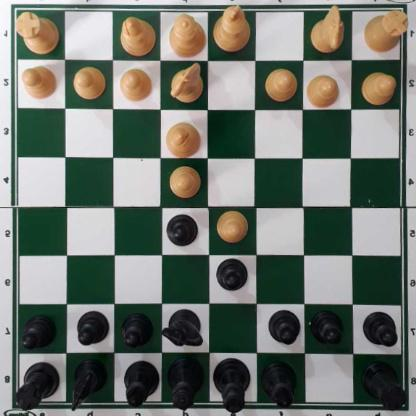black-bishop: (260, 361, 297, 411), (123, 362, 159, 409)
black-king: (215, 356, 251, 416)
black-knight: (71, 360, 107, 413), (164, 311, 201, 350)
black-pawn: (362, 312, 397, 349), (21, 316, 56, 351), (216, 259, 249, 294), (76, 312, 108, 348), (311, 313, 343, 348), (121, 314, 152, 349), (166, 215, 198, 248), (268, 311, 299, 345)
black-queen: (167, 360, 205, 411)
black-rook: (15, 365, 61, 412), (360, 364, 404, 410)
white-bishop: (120, 17, 154, 58), (165, 123, 200, 160)
white-king: (215, 5, 249, 55)
white-knight: (310, 5, 344, 56), (170, 63, 204, 105)
white-pawn: (19, 67, 58, 101), (118, 68, 152, 104), (361, 73, 397, 106), (263, 69, 297, 103), (307, 75, 339, 110), (72, 69, 105, 102), (168, 168, 201, 201), (215, 213, 249, 245)
white-queen: (169, 11, 204, 61)
white-rook: (363, 10, 409, 54), (15, 13, 60, 56)
